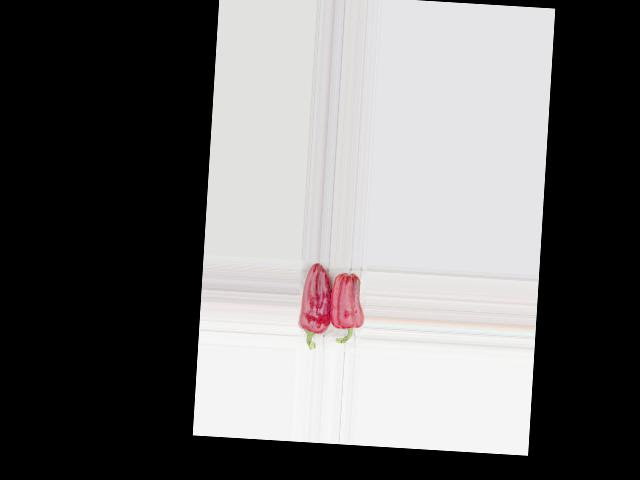bell_pepper: (297, 262, 334, 353)
